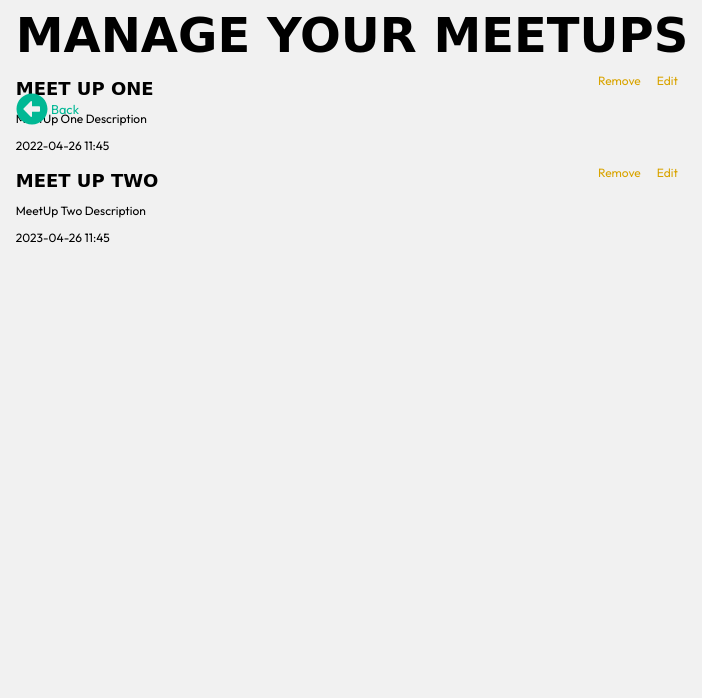
Test case: Meetups Manager › render edit meetup form
Click the link with test id "edit#2". click: (667, 172)
box: [657,165,678,180]
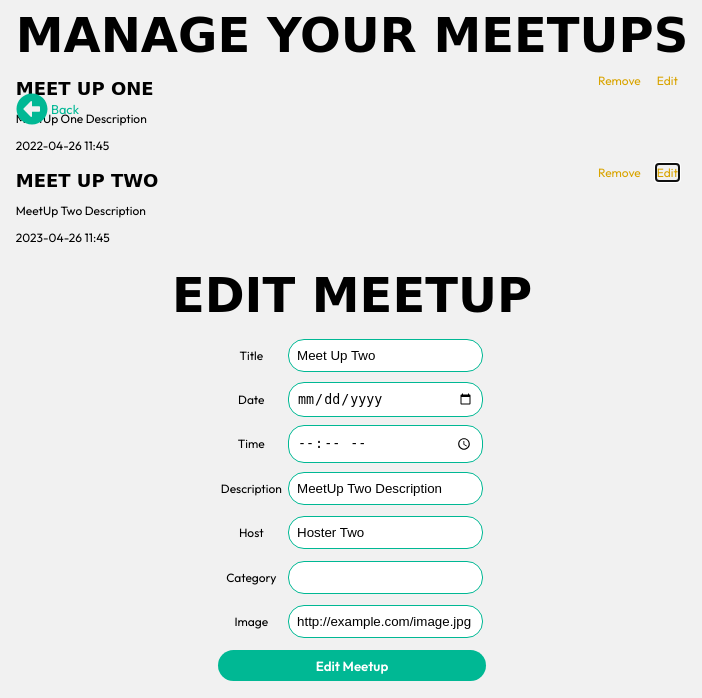
Expected: the heading "Edit Meetup" is shown, [172,267,532,323]
